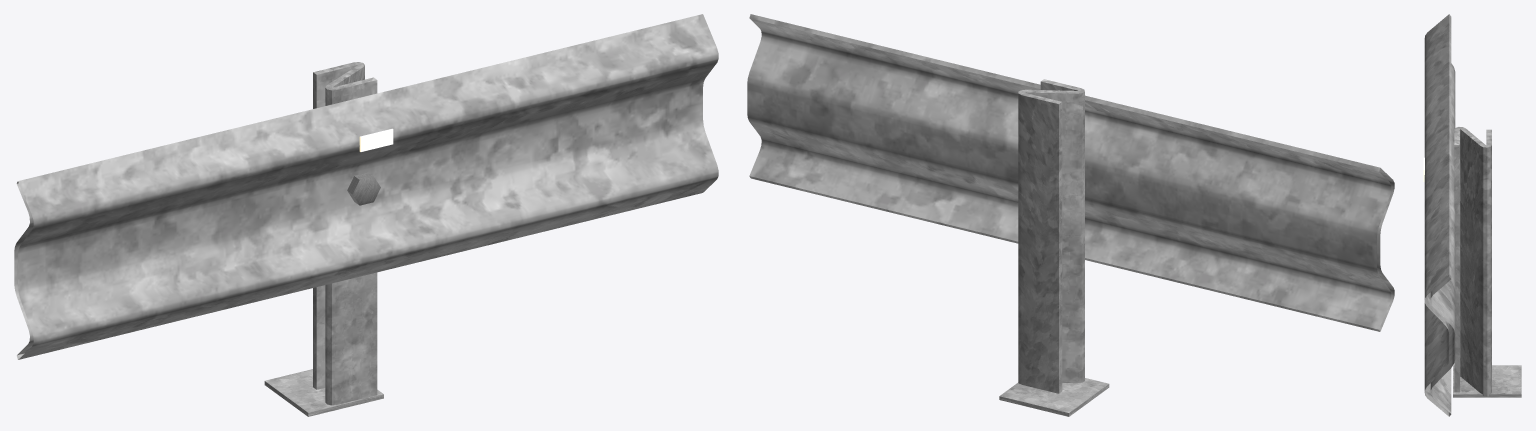
File: leitplanke_lod0.glb
3 views of the same model, side by side, from view 1: azimuth 30°, elevation 25°; view 2: azimuth 150°, elevation 25°; view 3: azimuth 270°, elevation 25° (orthographic). The views are drawn at different scales.
Visible parts, largest first — view 1: Leitplanke, Pfosten; view 2: Leitplanke, Pfosten; view 3: Leitplanke, Pfosten.
Part boxes in pixels (<box>): Leitplanke: <box>14,14,718,359</box>; Pfosten: <box>264,62,383,416</box>; Leitplanke: <box>747,14,1394,331</box>; Pfosten: <box>999,79,1109,416</box>; Leitplanke: <box>1424,14,1455,416</box>; Pfosten: <box>1453,127,1521,397</box>.
Bounding box in the file's own units: 1.75 × 0.7791 × 0.2769.
Materials: 3 (2 with a texture image).
